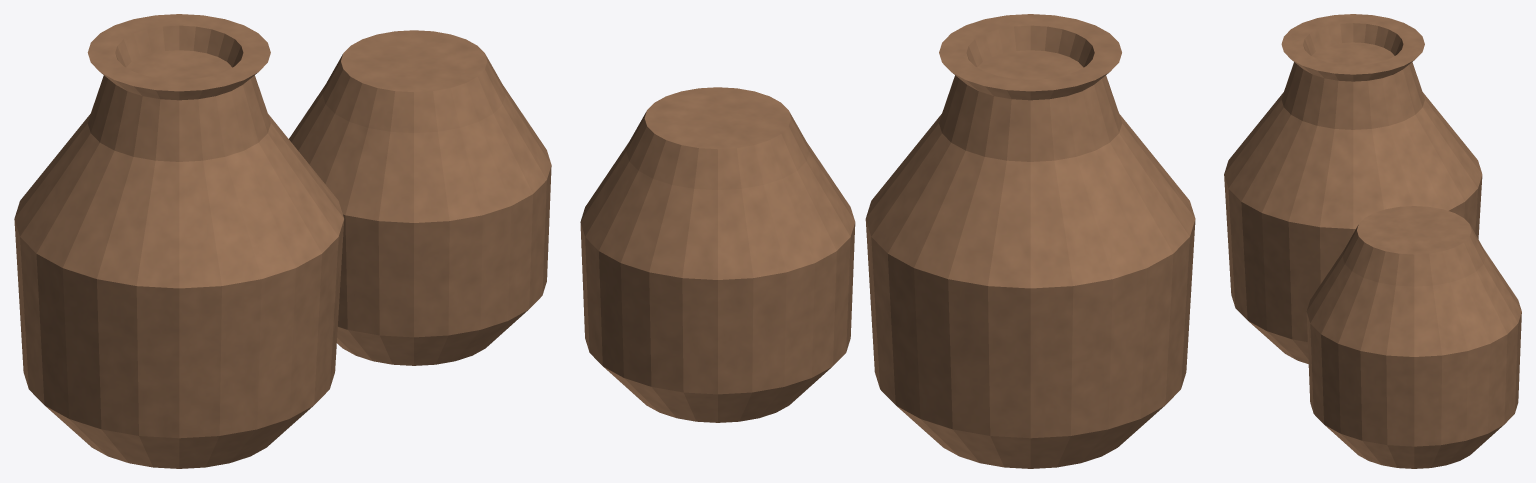
Rendered from Pottery_Jars.fbx.
The picture shows the model from 3 angles, left to right: view 1: azimuth 30°, elevation 25°; view 2: azimuth 150°, elevation 25°; view 3: azimuth 270°, elevation 25°; orthographic projection. The views are drawn at different scales.
Parts seen in each view (by area): view 1: Pottery_Jars.001; view 2: Pottery_Jars.001; view 3: Pottery_Jars.001.
Boxes of the visible parts, left/top/right/bottom form: Pottery_Jars.001: left=14, top=14, right=551, bottom=468; Pottery_Jars.001: left=580, top=14, right=1195, bottom=468; Pottery_Jars.001: left=1224, top=14, right=1521, bottom=468.
Size of the model in its own units: 1.35 by 0.9 by 0.83.
